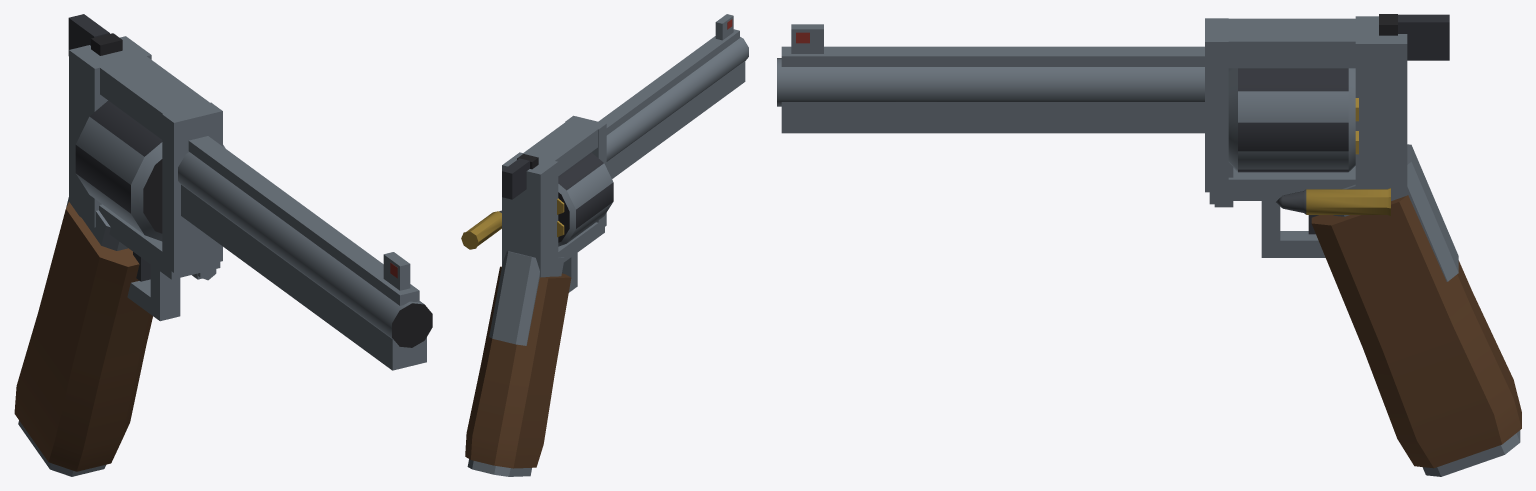
Rendered from revolver.glb.
The picture shows the model from 3 angles, left to right: view 1: azimuth 30°, elevation 25°; view 2: azimuth 150°, elevation 25°; view 3: azimuth 270°, elevation 25°; orthographic projection. The views are drawn at different scales.
Parts seen in each view (by area): view 1: Weapon, Cylinder; view 2: Weapon, Cylinder, Round; view 3: Weapon, Cylinder, Round.
Boxes of the visible parts, left/top/right/bottom form: Weapon: left=14, top=14, right=432, bottom=476; Cylinder: left=75, top=100, right=225, bottom=280; Weapon: left=465, top=14, right=748, bottom=476; Cylinder: left=557, top=152, right=613, bottom=246; Round: left=461, top=210, right=501, bottom=249; Weapon: left=777, top=14, right=1521, bottom=476; Cylinder: left=1209, top=68, right=1358, bottom=207; Round: left=1276, top=188, right=1390, bottom=215.
Size of the model in its own units: 0.0729 by 0.2107 by 0.3167.
